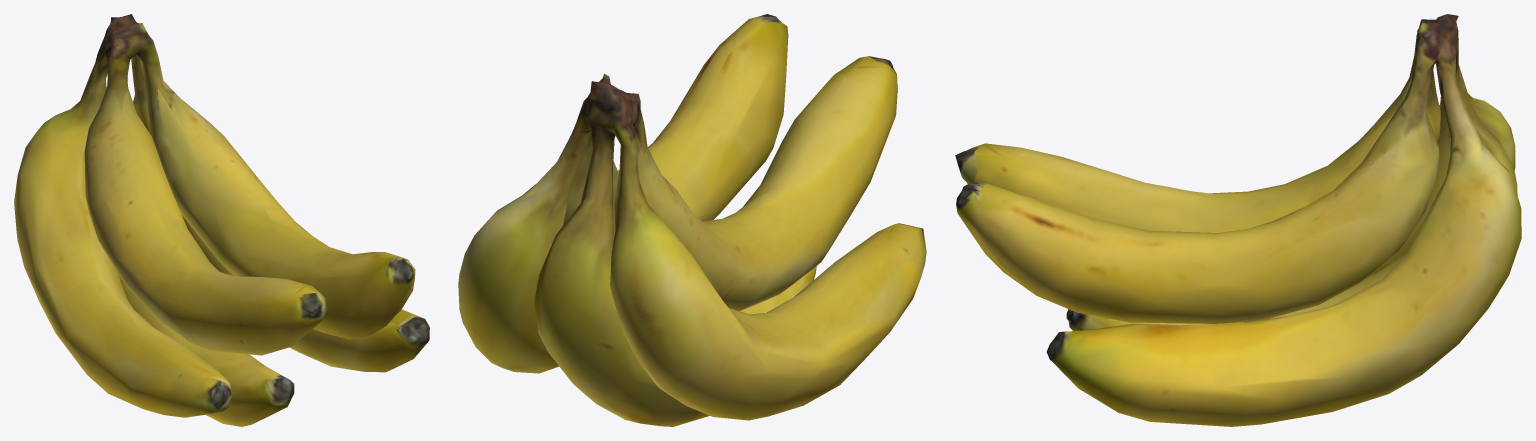
File: Banana.fbx
The picture shows the model from 3 angles, left to right: view 1: azimuth 30°, elevation 25°; view 2: azimuth 150°, elevation 25°; view 3: azimuth 270°, elevation 25°; orthographic projection. The views are drawn at different scales.
Parts seen in each view (by area): view 1: Banana; view 2: Banana; view 3: Banana.
Boxes of the visible parts, <box> form: Banana: <box>14,14,429,426</box>; Banana: <box>458,14,926,426</box>; Banana: <box>955,14,1521,426</box>.
Size of the model in its own units: 0.1232 by 0.1427 by 0.1934.
